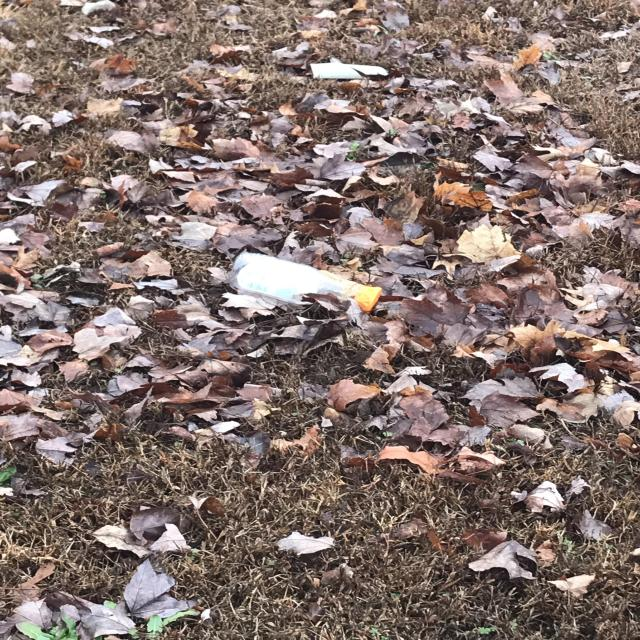litter: (223, 250, 383, 307)
